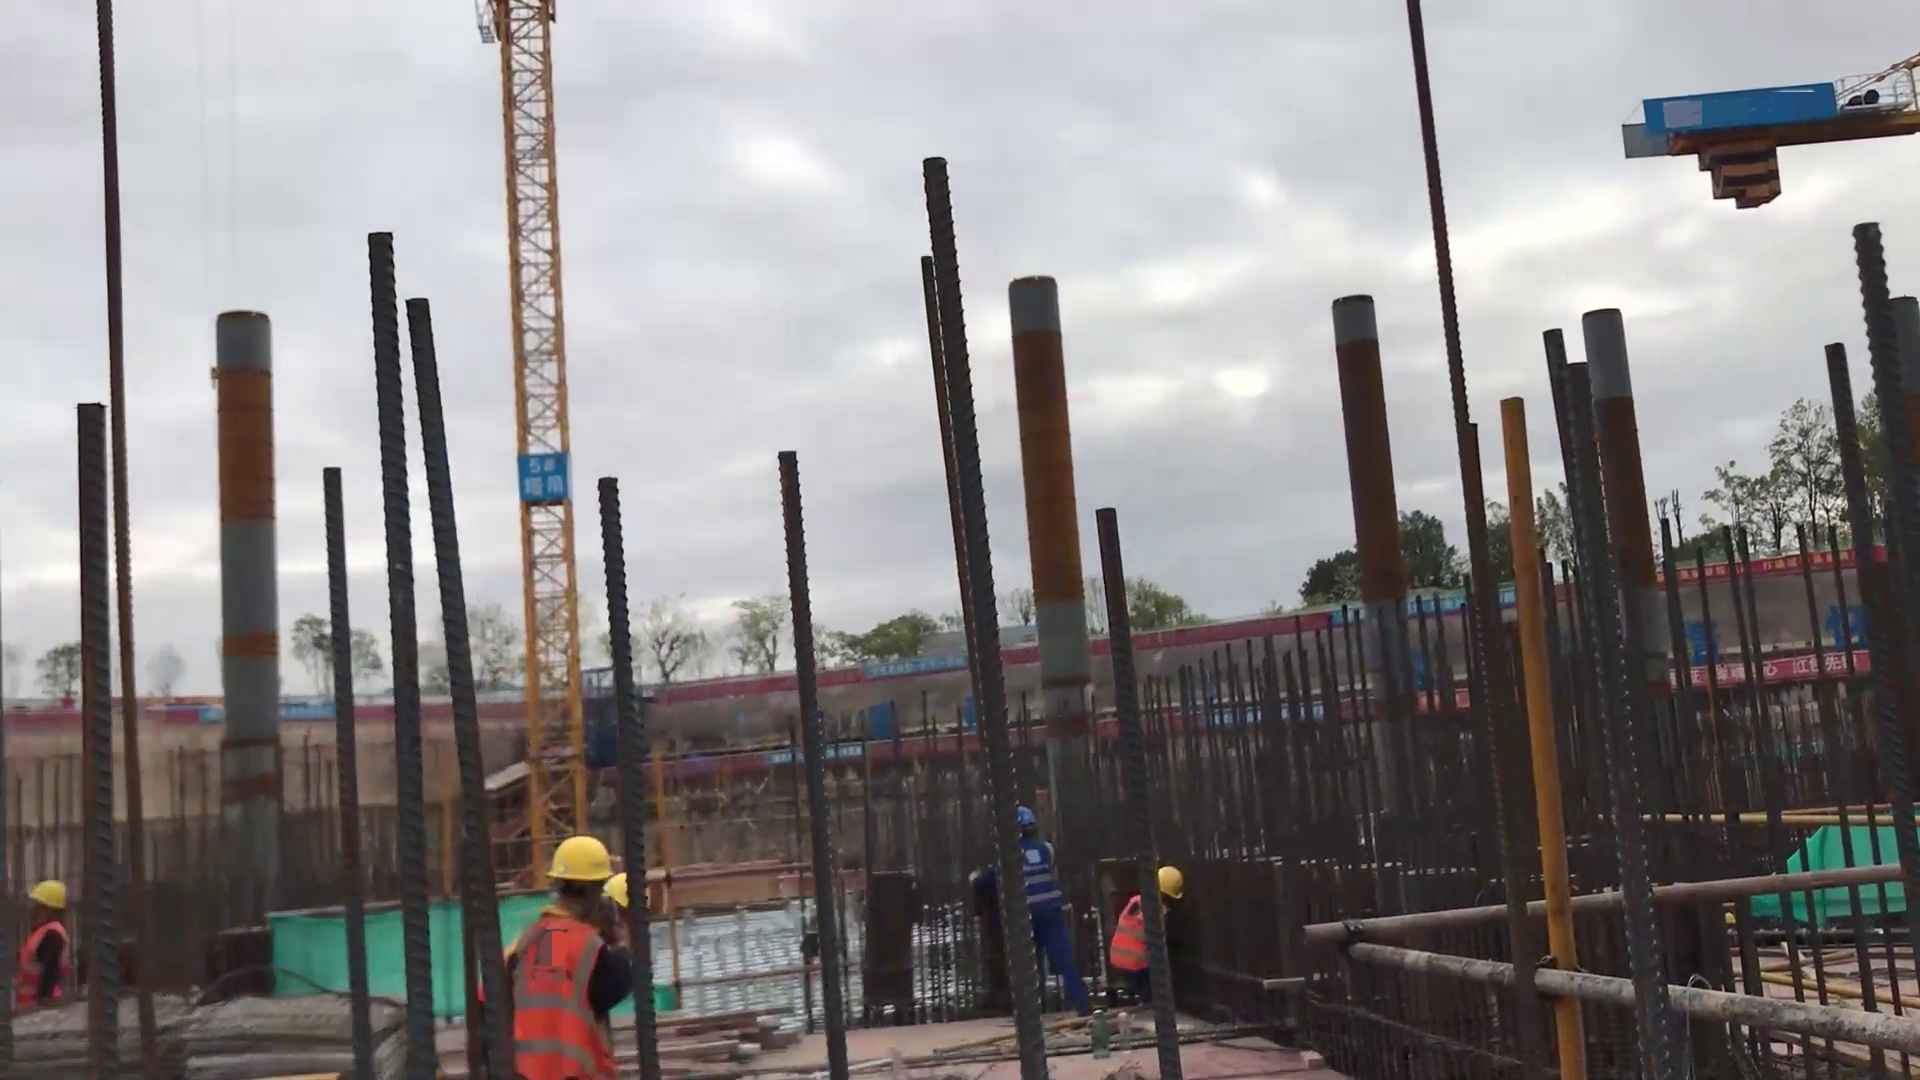fence: (1130, 607, 1346, 651), (648, 667, 801, 722), (358, 693, 393, 738)
helmet: (535, 837, 621, 896), (1128, 865, 1192, 904), (19, 877, 71, 908), (1002, 800, 1042, 842)
person: (498, 829, 598, 1073), (1109, 862, 1192, 1008), (1015, 800, 1073, 979), (11, 874, 77, 1007)
slogan: (516, 450, 576, 513)
vest: (503, 910, 616, 1080), (17, 920, 77, 1006), (1107, 897, 1161, 987), (1015, 842, 1066, 915)
